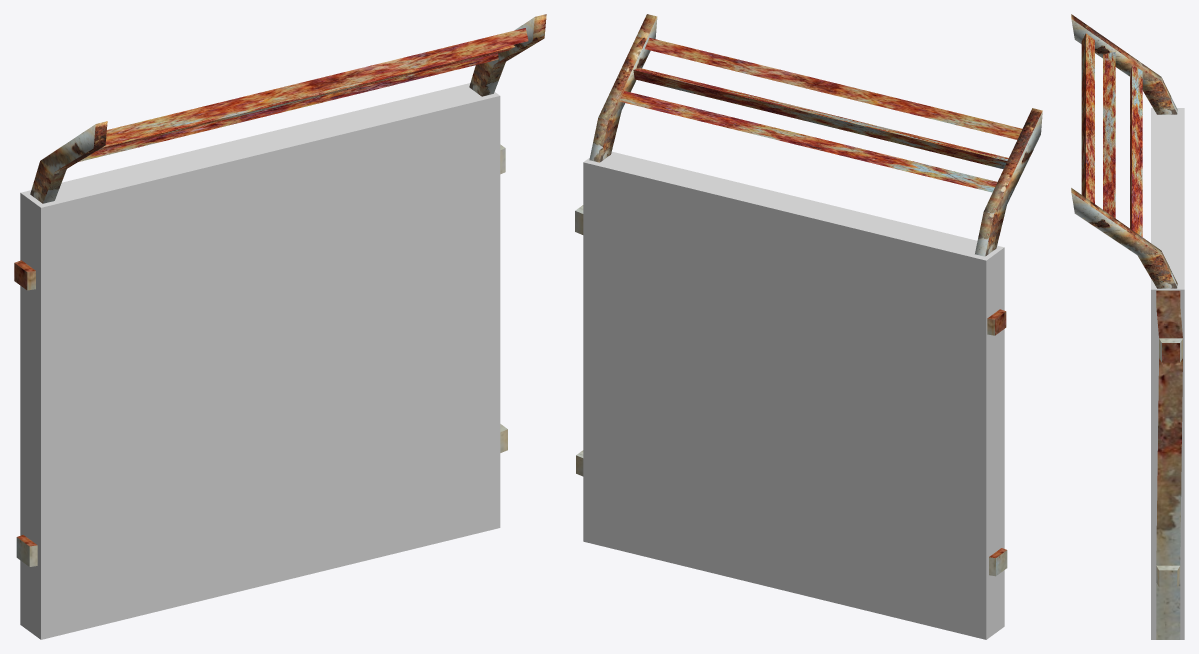
3 renders of one model, left to right at view 1: azimuth 30°, elevation 25°; view 2: azimuth 150°, elevation 25°; view 3: azimuth 270°, elevation 25°, orthographic. The views are drawn at different scales.
Visible parts, largest first — view 1: VB3x3Bor-col, VB3x3Sup, VB3x3Bor; view 2: VB3x3Bor-col, VB3x3Sup, VB3x3Bor; view 3: VB3x3Sup, VB3x3Bor-col, VB3x3Bor.
Part boxes in pixels (left/top/right/bottom): VB3x3Bor-col: left=20, top=83, right=500, bottom=639; VB3x3Sup: left=30, top=14, right=546, bottom=203; VB3x3Bor: left=14, top=144, right=507, bottom=566; VB3x3Bor-col: left=583, top=151, right=1004, bottom=639; VB3x3Sup: left=589, top=14, right=1042, bottom=256; VB3x3Bor: left=575, top=205, right=1007, bottom=576; VB3x3Sup: left=1071, top=14, right=1177, bottom=288; VB3x3Bor-col: left=1151, top=108, right=1184, bottom=639; VB3x3Bor: left=1156, top=290, right=1182, bottom=639.
Bounding box in the file's own units: 3.03 × 3.32 × 0.763.
Materials: 3 (3 with a texture image).
